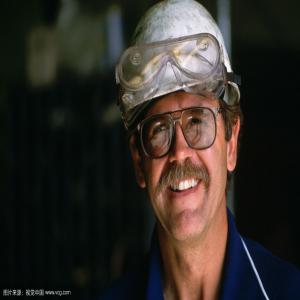white: (120, 3, 242, 243)
